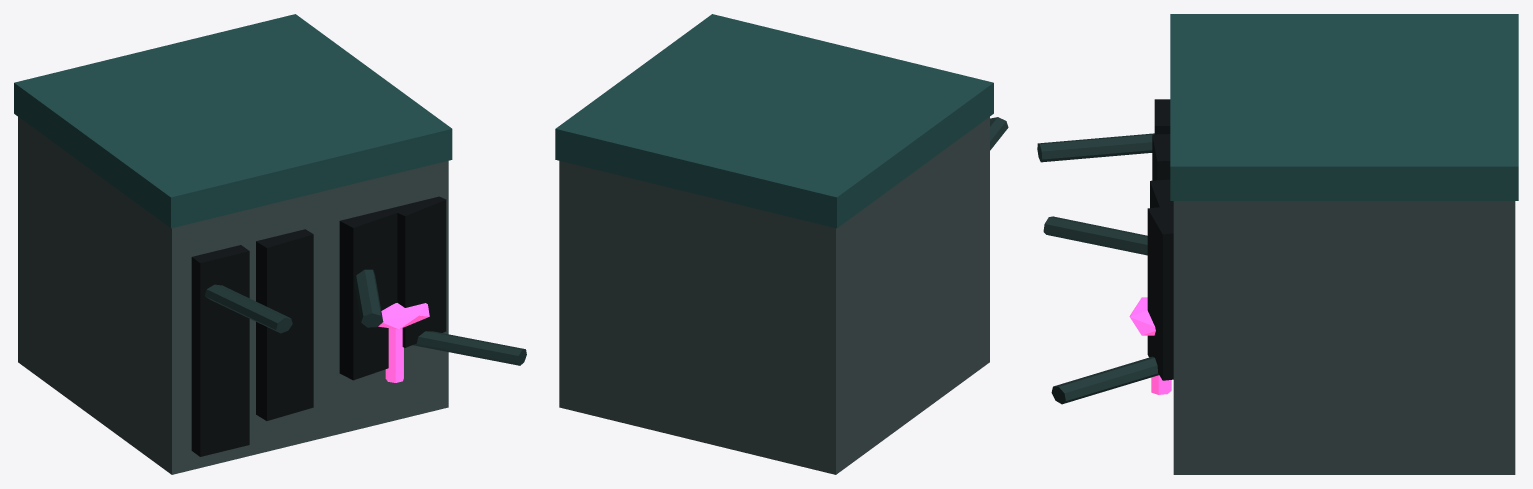
File: df_v2_cliff_side_a.glb
3 renders of one model, left to right at view 1: azimuth 30°, elevation 25°; view 2: azimuth 150°, elevation 25°; view 3: azimuth 270°, elevation 25°, orthographic. The views are drawn at different scales.
Parts seen in each view (by area): view 1: black_cliff_mass, mossy_plateau_cap, broken_dark_face_0, broken_dark_face_1, broken_dark_face_2, broken_dark_face_3, cliff_root_2, cliff_root_0, cliff_root_1, cliff_mushroom_glow_cap, cliff_mushroom_glow_stem; view 2: black_cliff_mass, mossy_plateau_cap; view 3: black_cliff_mass, mossy_plateau_cap, broken_dark_face_3, cliff_root_0, cliff_root_2, cliff_root_1, broken_dark_face_1, cliff_mushroom_glow_cap, broken_dark_face_0, broken_dark_face_2.
Part boxes in pixels (x1=…): black_cliff_mass: x1=18, y1=117, x2=448, y2=474; mossy_plateau_cap: x1=14, y1=14, x2=452, y2=228; broken_dark_face_0: x1=191, y1=245, x2=249, y2=456; broken_dark_face_1: x1=256, y1=229, x2=313, y2=420; broken_dark_face_2: x1=339, y1=209, x2=397, y2=380; broken_dark_face_3: x1=389, y1=196, x2=446, y2=347; cliff_root_2: x1=412, y1=331, x2=526, y2=365; cliff_root_0: x1=205, y1=284, x2=292, y2=333; cliff_root_1: x1=354, y1=269, x2=383, y2=327; cliff_mushroom_glow_cap: x1=378, y1=303, x2=429, y2=329; cliff_mushroom_glow_stem: x1=385, y1=328, x2=403, y2=382; black_cliff_mass: x1=559, y1=117, x2=989, y2=474; mossy_plateau_cap: x1=555, y1=14, x2=993, y2=228; black_cliff_mass: x1=1173, y1=201, x2=1515, y2=474; mossy_plateau_cap: x1=1170, y1=14, x2=1518, y2=200; broken_dark_face_3: x1=1147, y1=206, x2=1173, y2=380; cliff_root_0: x1=1037, y1=133, x2=1154, y2=162; cliff_root_2: x1=1051, y1=356, x2=1158, y2=404; cliff_root_1: x1=1043, y1=216, x2=1147, y2=255; broken_dark_face_1: x1=1152, y1=134, x2=1170, y2=180; cliff_mushroom_glow_cap: x1=1129, y1=297, x2=1155, y2=335; broken_dark_face_0: x1=1154, y1=99, x2=1170, y2=134; broken_dark_face_2: x1=1150, y1=179, x2=1173, y2=208.
Size of the model in its own units: 1.25 by 1.08 by 1.52.
